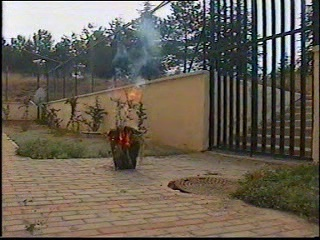smoke: (105, 13, 159, 90)
